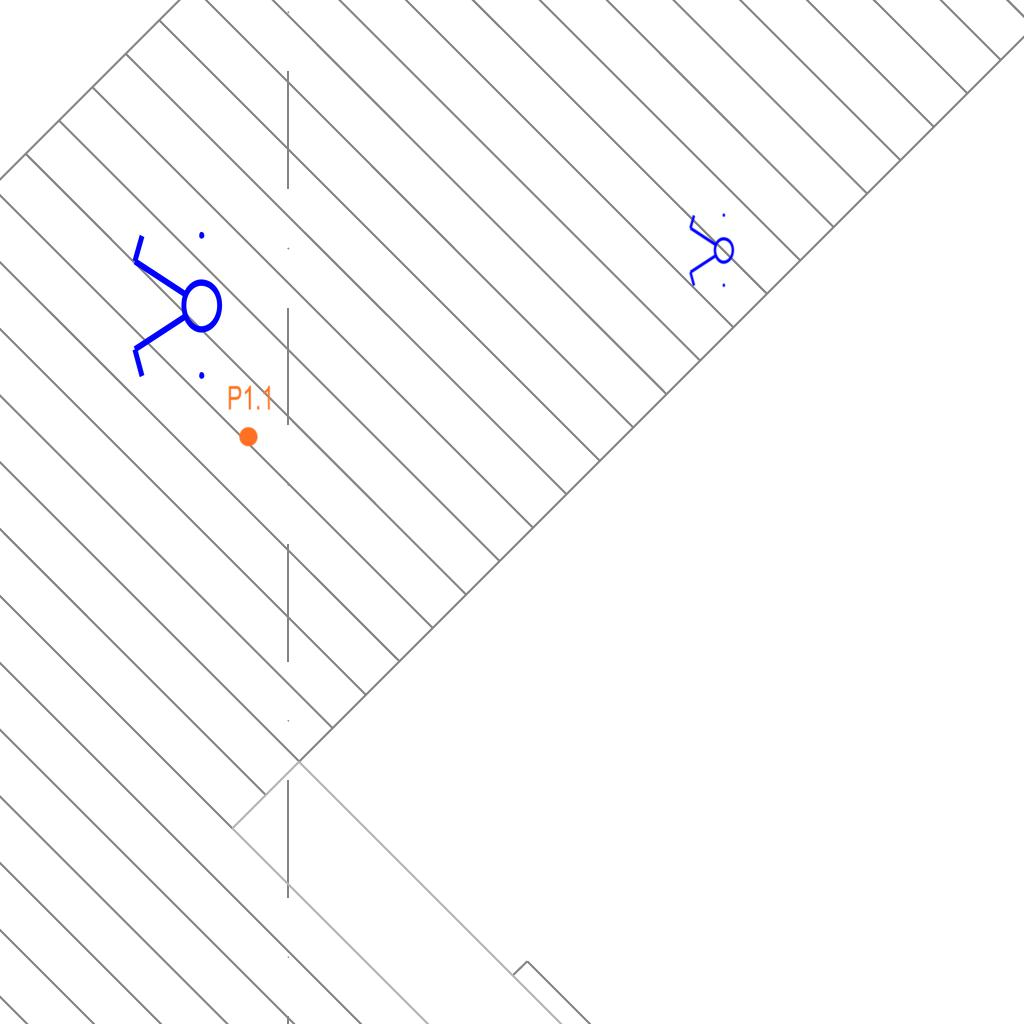Downlight_LED_Einbauleuchten_Flur: (227, 384, 273, 448)
Serienschalter: (128, 223, 224, 391), (687, 209, 735, 293)
